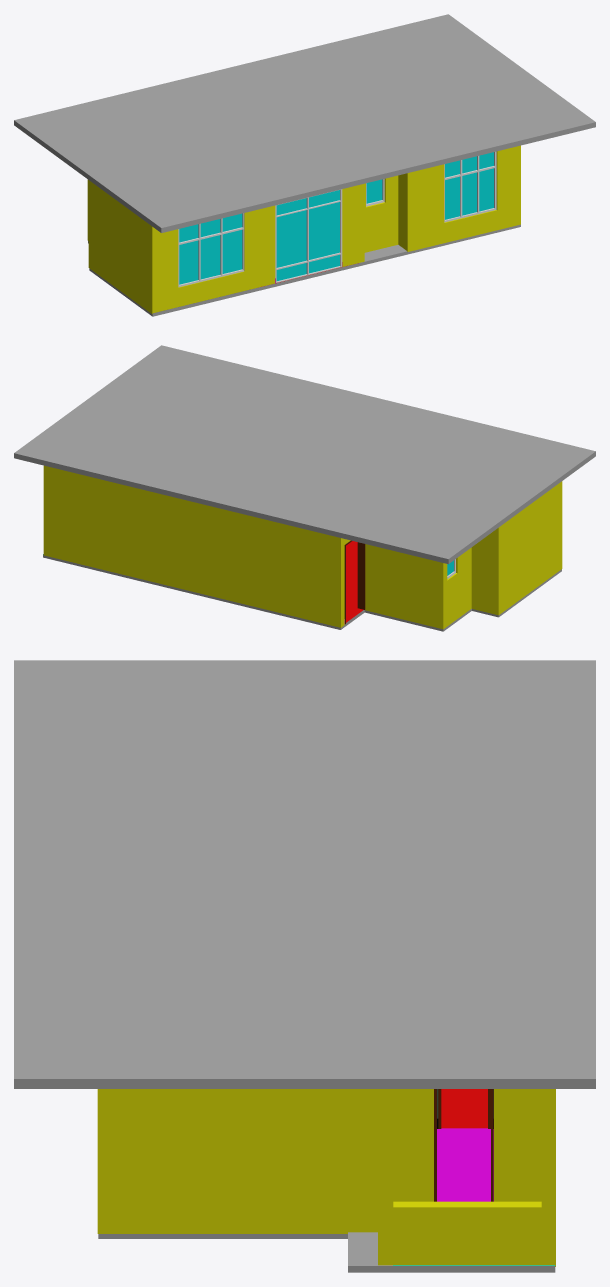
File: Wing_B_Flat_No_03_Type02MtID.fbx
3 views of the same model, one above another, from view 1: azimuth 30°, elevation 25°; view 2: azimuth 150°, elevation 25°; view 3: azimuth 270°, elevation 25° (orthographic). The views are drawn at different scales.
Parts seen in each view (by area): view 1: Flat_No_03_celling__DoorFrame_Skerting:Roof1, wall, balacony_door:Door_Glass1, Glass1, Flat_No_03_celling__DoorFrame_Skerting:Glass1, Floor1, balacony_door:Flat_No_03_Type03:Door_frame_03, Window_Frame, Flat_No_03_celling__DoorFrame_Skerting:Window_Frame; view 2: Flat_No_03_celling__DoorFrame_Skerting:Roof1, wall, Floor1, Flat_No_03_celling__DoorFrame_Skerting:pCube7; view 3: Flat_No_03_celling__DoorFrame_Skerting:Roof1, wall, Floor1.
Part boxes in pixels (bbox=[...]): Flat_No_03_celling__DoorFrame_Skerting:Roof1: bbox=[14, 14, 595, 232]; wall: bbox=[87, 145, 520, 314]; balacony_door:Door_Glass1: bbox=[276, 190, 339, 281]; Glass1: bbox=[179, 213, 242, 284]; Flat_No_03_celling__DoorFrame_Skerting:Glass1: bbox=[445, 152, 493, 219]; Floor1: bbox=[88, 224, 520, 316]; balacony_door:Flat_No_03_Type03:Door_frame_03: bbox=[275, 189, 342, 282]; Window_Frame: bbox=[178, 213, 244, 287]; Flat_No_03_celling__DoorFrame_Skerting:Window_Frame: bbox=[444, 151, 496, 222]; Flat_No_03_celling__DoorFrame_Skerting:Roof1: bbox=[14, 345, 595, 564]; wall: bbox=[43, 465, 562, 629]; Floor1: bbox=[43, 541, 561, 631]; Flat_No_03_celling__DoorFrame_Skerting:pCube7: bbox=[344, 540, 365, 624]; Flat_No_03_celling__DoorFrame_Skerting:Roof1: bbox=[14, 660, 595, 1088]; wall: bbox=[97, 1089, 555, 1266]; Floor1: bbox=[98, 1089, 555, 1272].
Size of the model in its own units: 1361 by 321 by 800.
